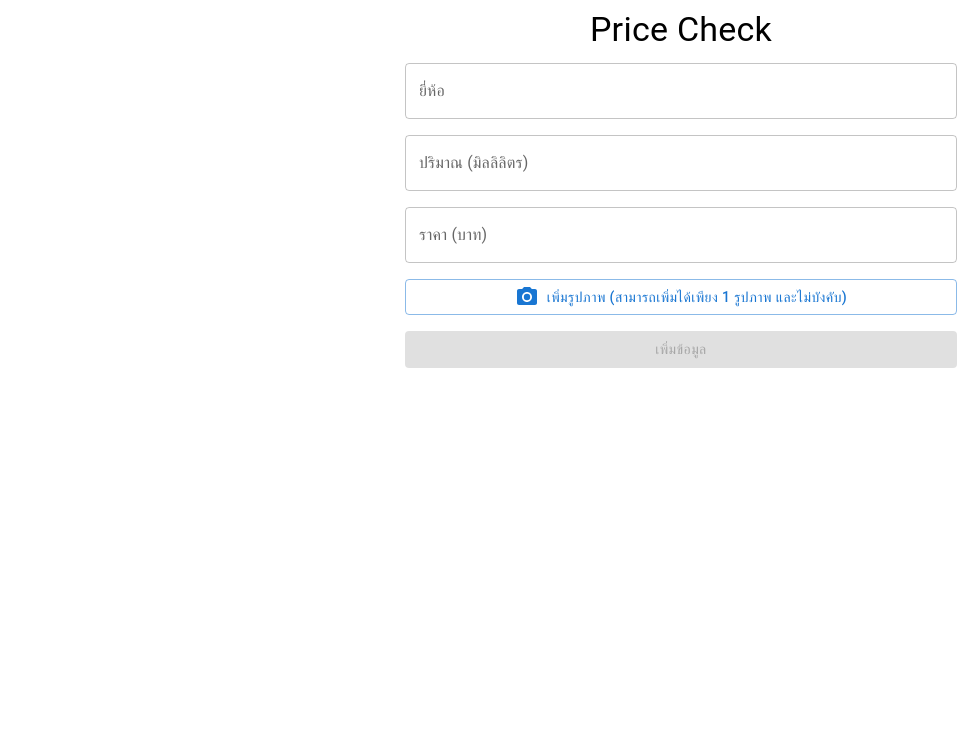
it: Item Price Check App › edits an existing item
Note: Add a item first
Type "Brand A" into the field labelled "ยี่ห้อ" at (681, 91), box [405, 63, 957, 119]
Type "1000" into the field labelled "ปริมาณ (มิลลิลิตร)" at (681, 163), box [405, 135, 957, 191]
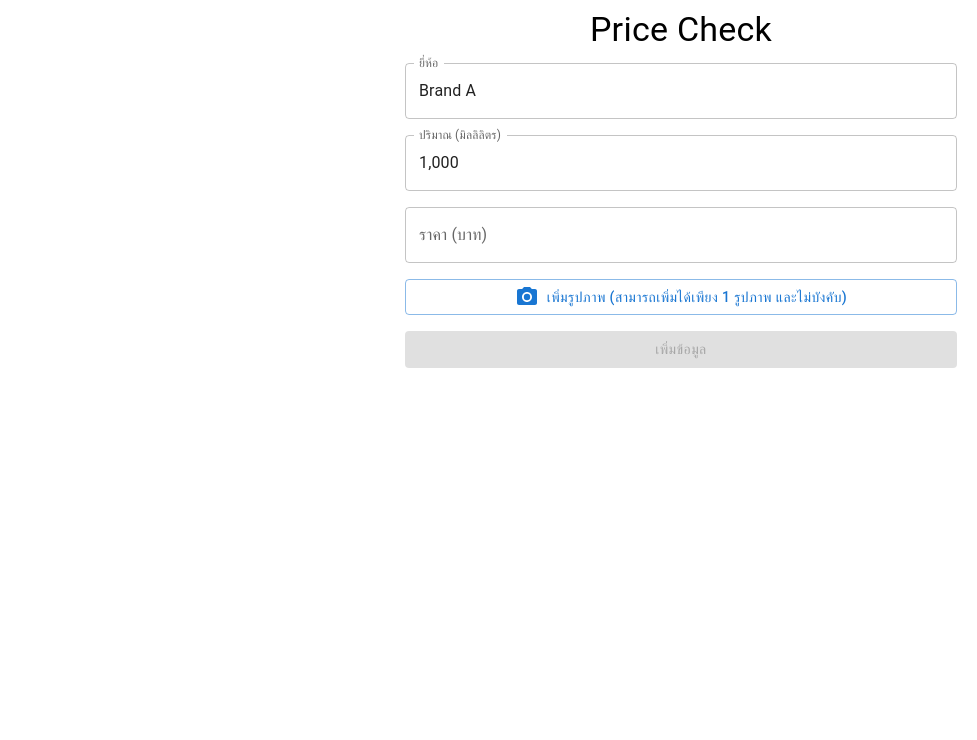
Type "100" into the field labelled "ราคา (บาท)" at (681, 235), box [405, 207, 957, 263]
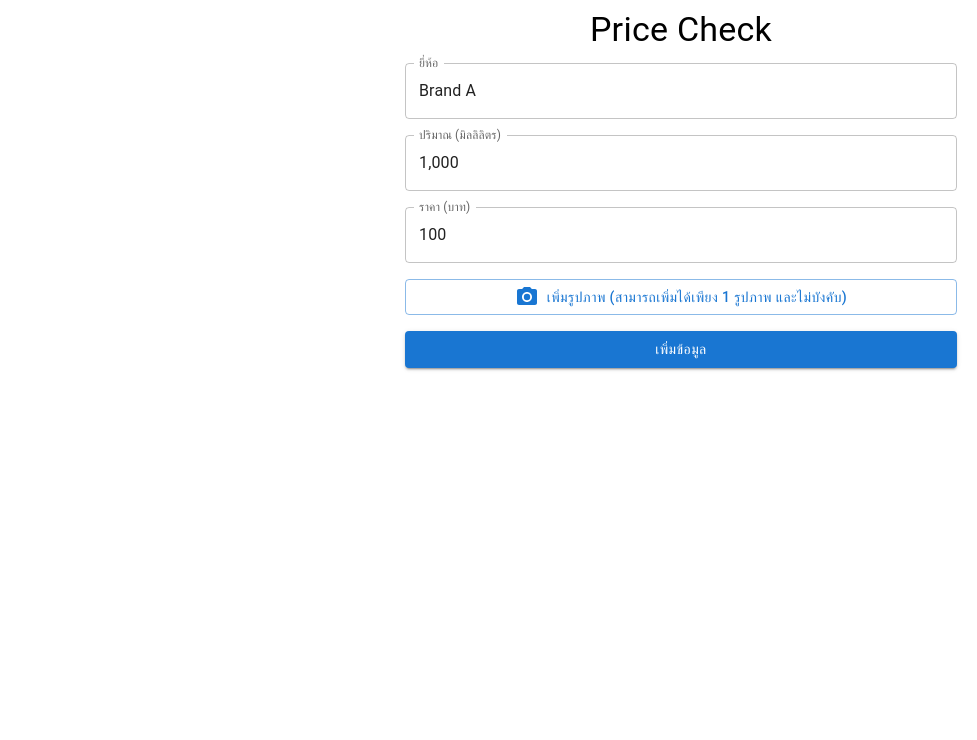
Click the button "เพิ่มข้อมูล" at (681, 350), box [405, 331, 957, 368]
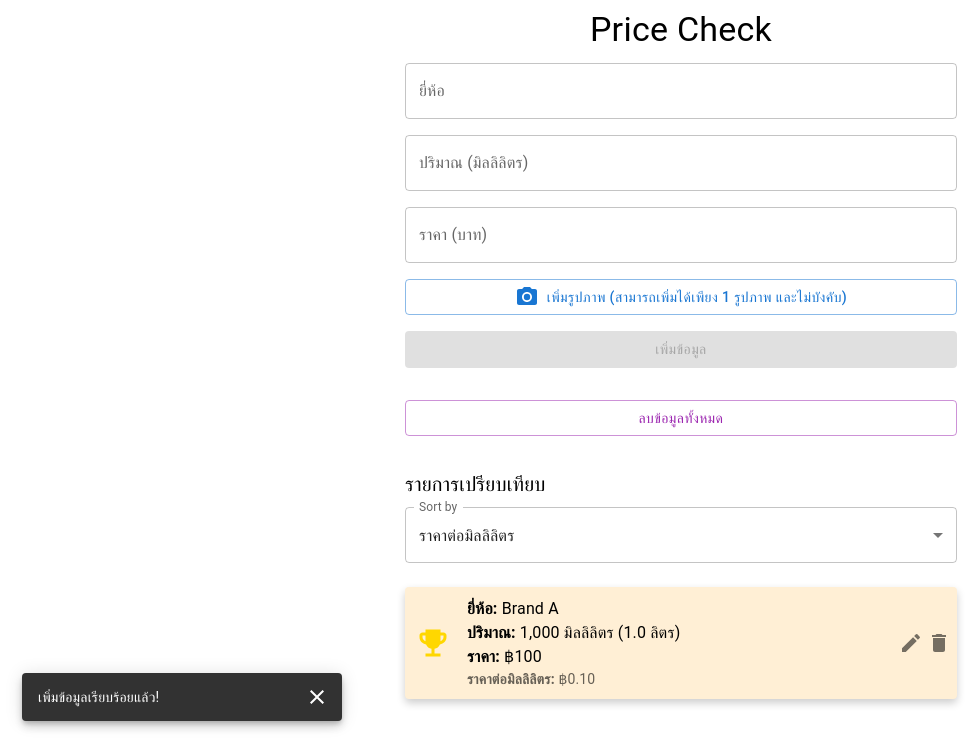
Note: Edit the added item
Click the button named "edit" at (911, 643), box [891, 623, 931, 663]
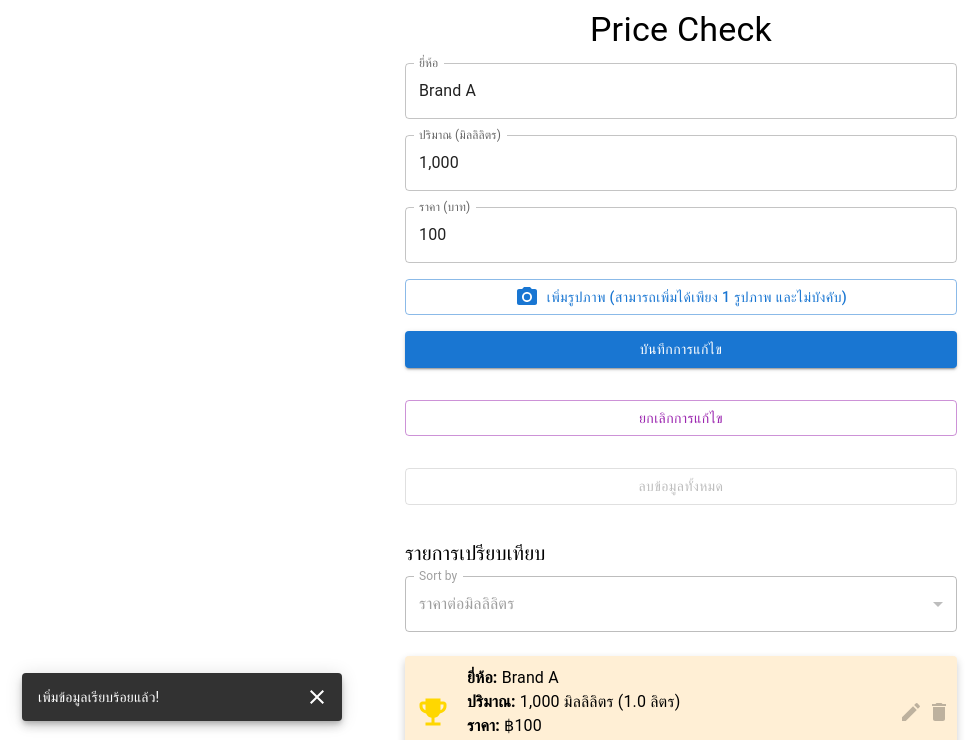
Note: Change the name and save
Replace the text in the field labelled "ยี่ห้อ" with "Brand B" at (681, 91), box [405, 63, 957, 119]
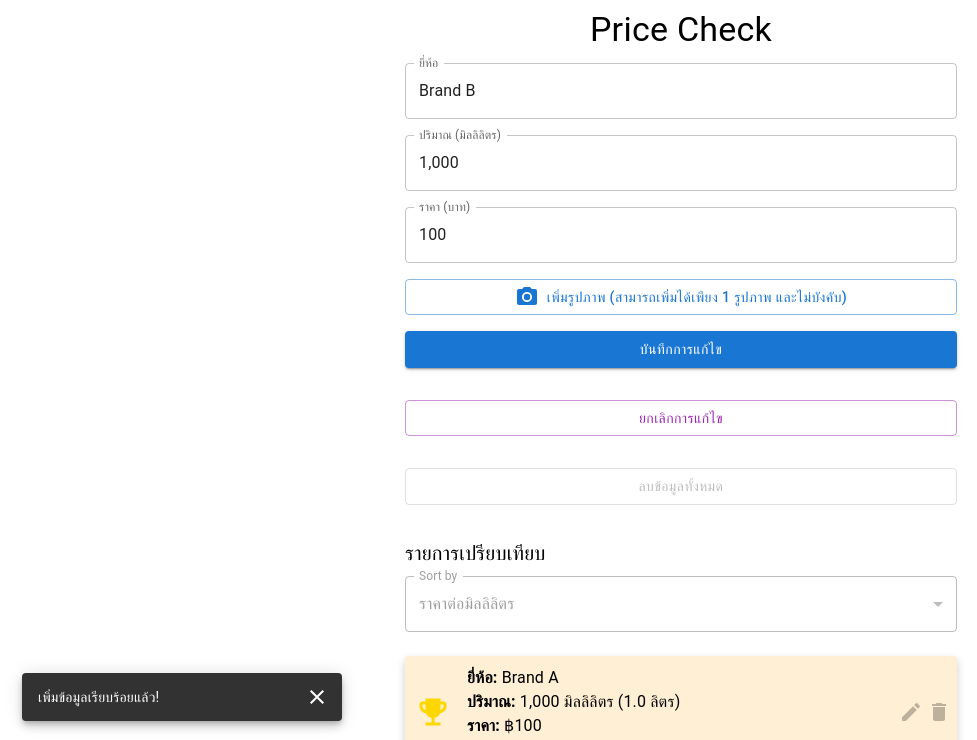
Click the button "บันทึกการแก้ไข" at (681, 350), box [405, 331, 957, 368]
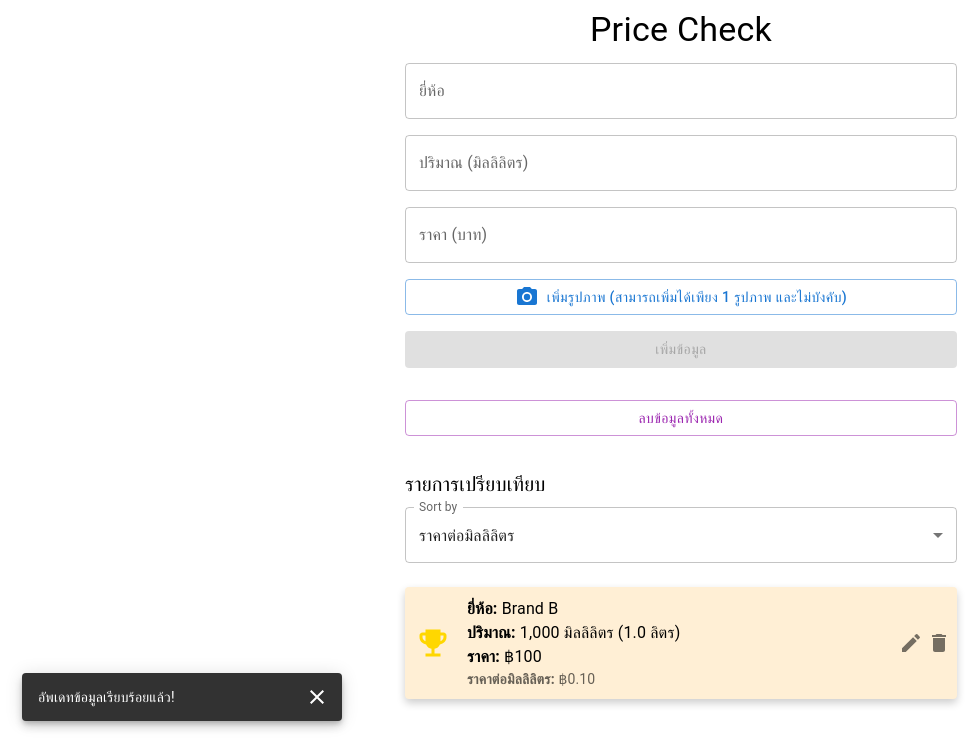
Result: the text "ยี่ห้อ: Brand B" is shown at [467, 599, 558, 618]
